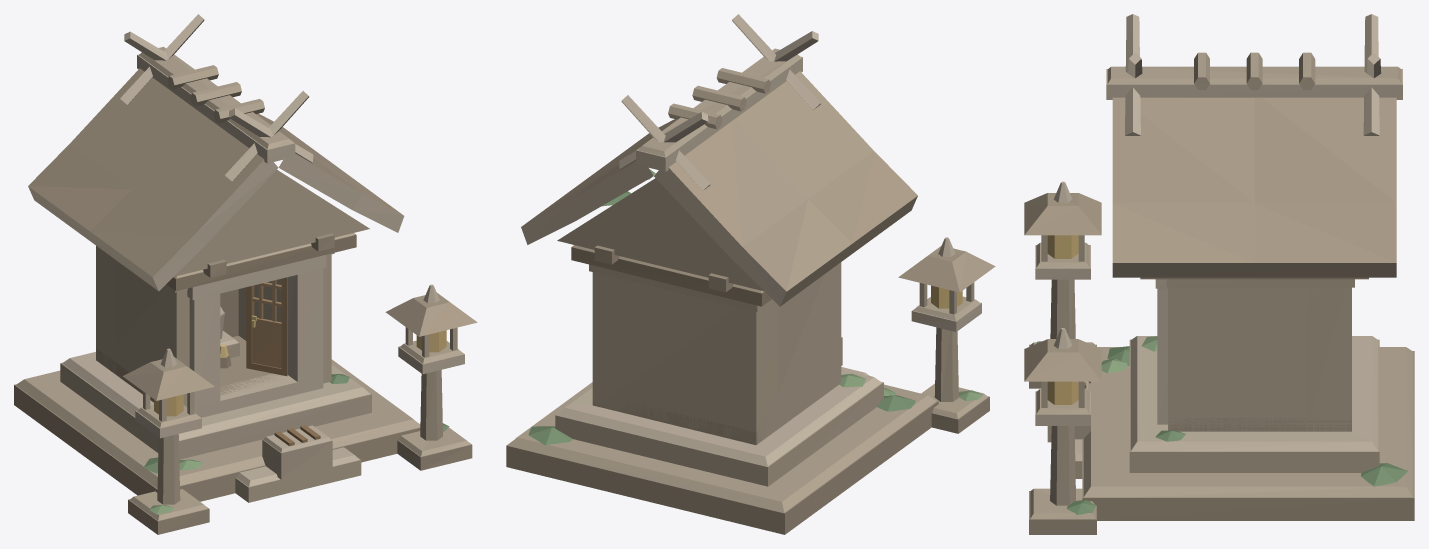
The model's file is shrine.glb.
The picture shows the model from 3 angles, left to right: view 1: azimuth 30°, elevation 25°; view 2: azimuth 150°, elevation 25°; view 3: azimuth 270°, elevation 25°; orthographic projection. The views are drawn at different scales.
Visible parts, largest first — view 1: LowPoly_Stone_Shrine; view 2: LowPoly_Stone_Shrine; view 3: LowPoly_Stone_Shrine.
Boxes of the visible parts, x1,y1,x2,y2 form: LowPoly_Stone_Shrine: (14,14,477,534); LowPoly_Stone_Shrine: (506,14,995,534); LowPoly_Stone_Shrine: (1024,14,1414,534).
Bounding box in the file's own units: 2.74 × 2.96 × 2.52.
